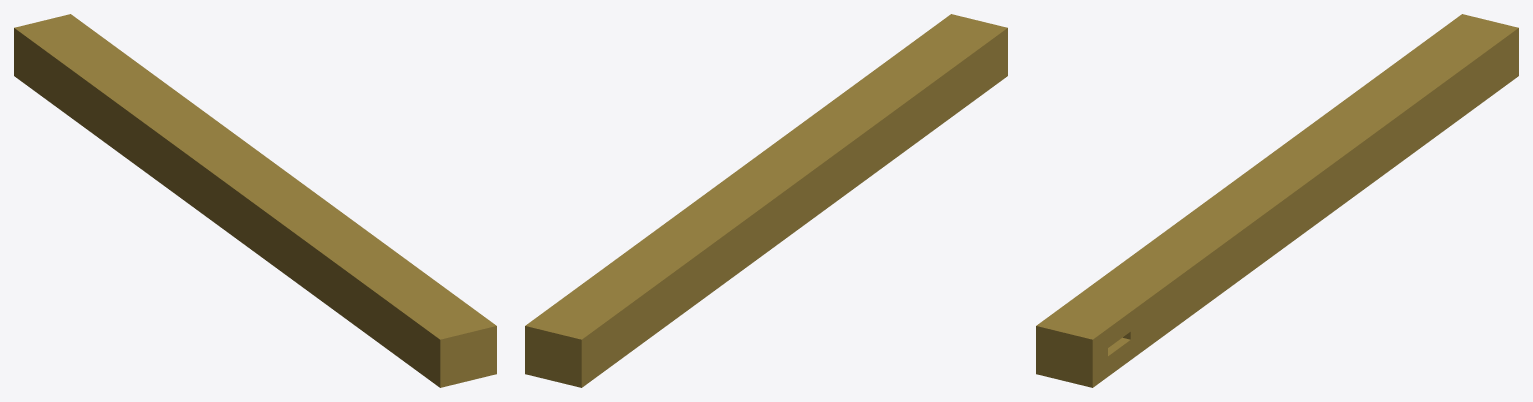
The model's file is original-58.obj.
3 renders of one model, left to right at view 1: azimuth 30°, elevation 25°; view 2: azimuth 150°, elevation 25°; view 3: azimuth 330°, elevation 25°, orthographic.
Visible parts, largest first — view 1: lower_doubler1/lower_doubler/mesh61/mesh61-geometry#mesh61-geome; view 2: lower_doubler1/lower_doubler/mesh61/mesh61-geometry#mesh61-geome; view 3: lower_doubler1/lower_doubler/mesh61/mesh61-geometry#mesh61-geome.
Boxes of the visible parts, x1,y1,x2,y2 form: lower_doubler1/lower_doubler/mesh61/mesh61-geometry#mesh61-geome: (14, 14, 496, 387); lower_doubler1/lower_doubler/mesh61/mesh61-geometry#mesh61-geome: (525, 14, 1007, 387); lower_doubler1/lower_doubler/mesh61/mesh61-geometry#mesh61-geome: (1036, 14, 1518, 387).
Size of the model in its own units: 0.0436 by 0.0355 by 0.5681.
